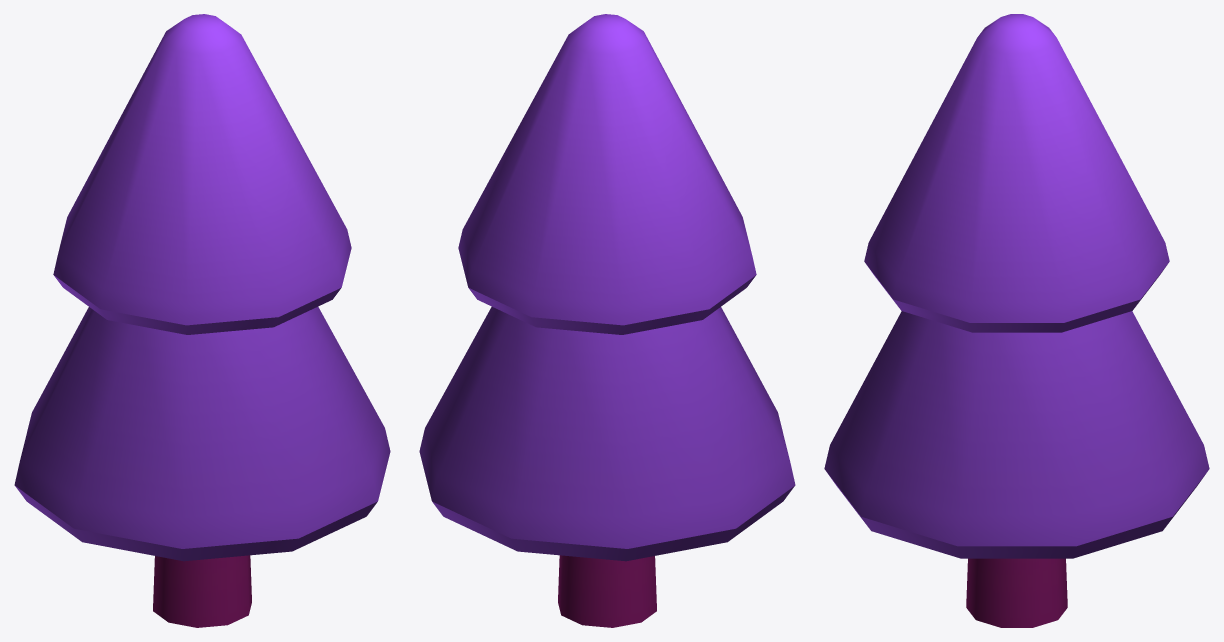
Rendered from alien_tree_2.obj.
The picture shows the model from 3 angles, left to right: view 1: azimuth 30°, elevation 25°; view 2: azimuth 150°, elevation 25°; view 3: azimuth 270°, elevation 25°; orthographic projection.
Visible parts, largest first — view 1: tree_single_B; view 2: tree_single_B; view 3: tree_single_B.
Part boxes in pixels (left/top/right/bottom): tree_single_B: left=14, top=14, right=390, bottom=627; tree_single_B: left=419, top=14, right=795, bottom=627; tree_single_B: left=824, top=14, right=1209, bottom=627.
Bounding box in the file's own units: 0.6849 × 1.21 × 0.7201.
1 material, 1 textured.
